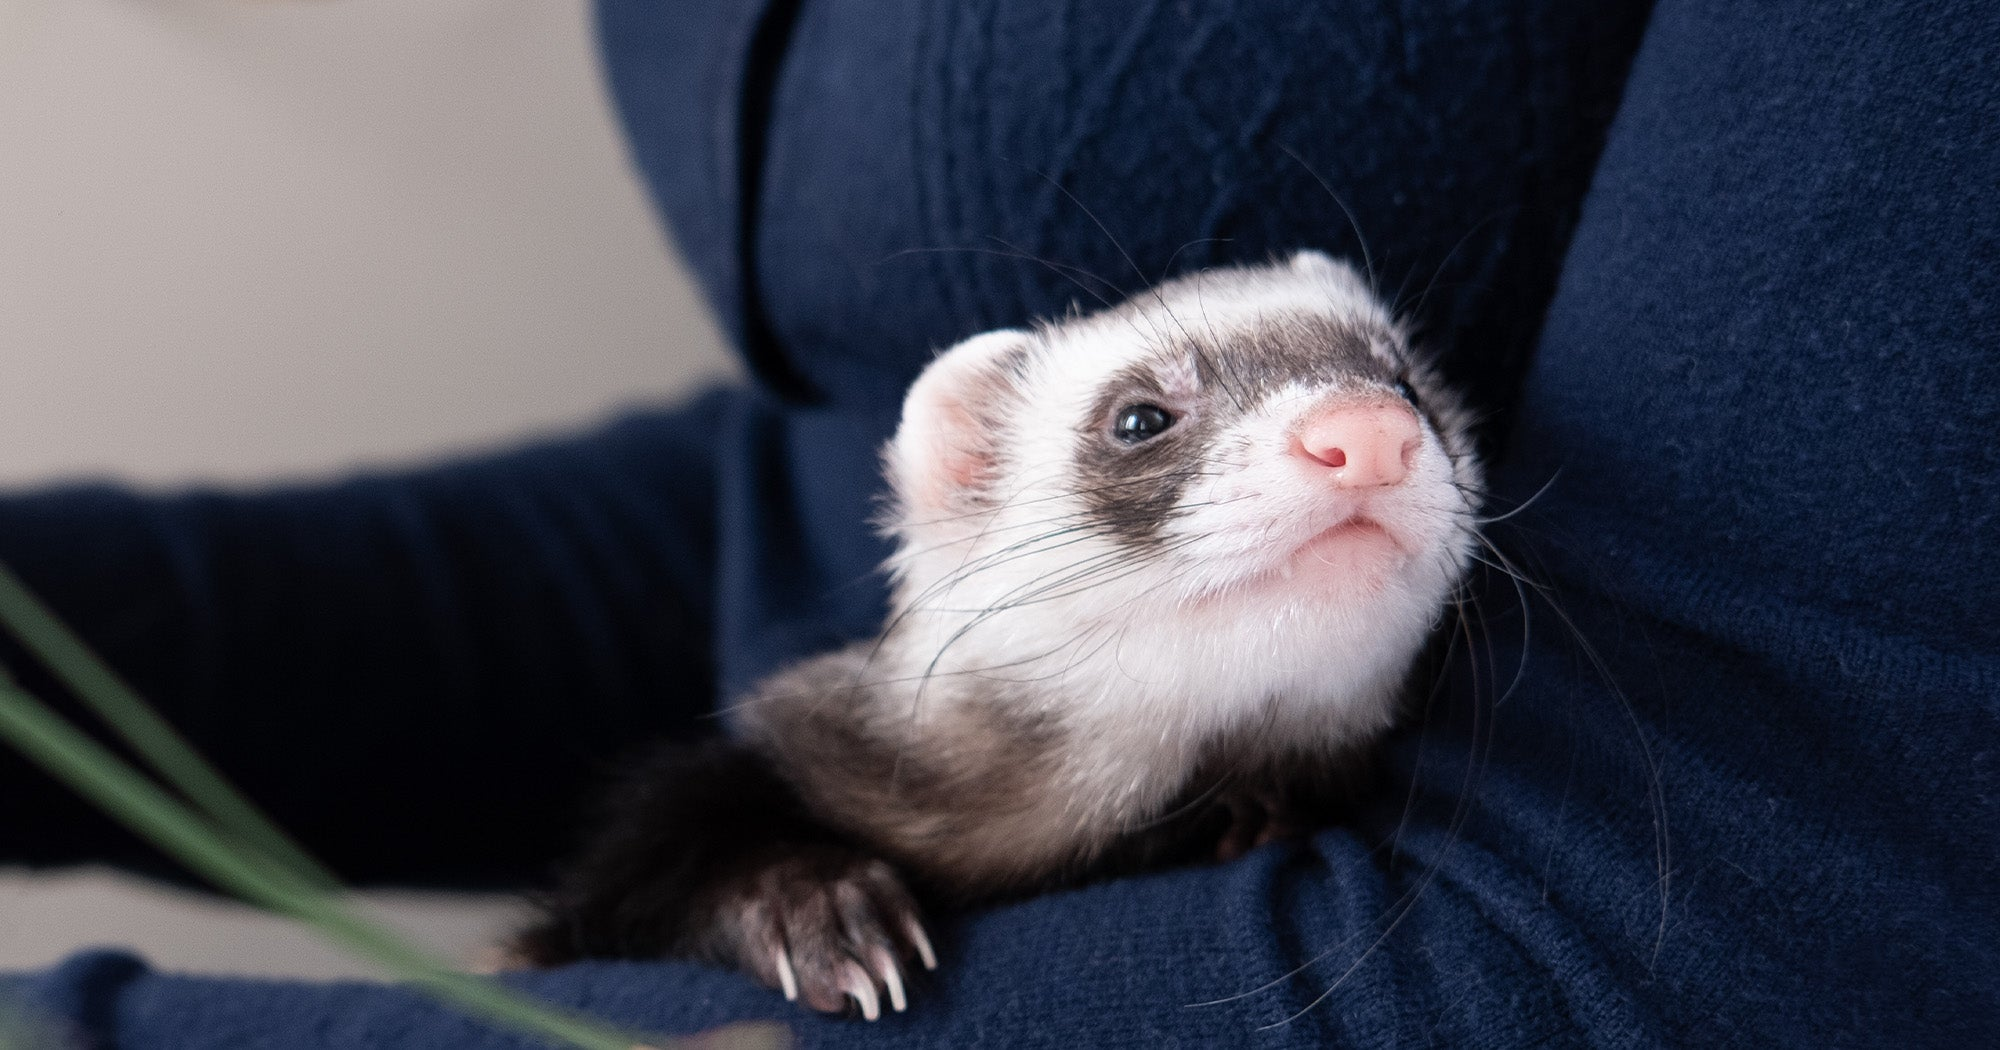Talulah: (526, 251, 1485, 1022)
